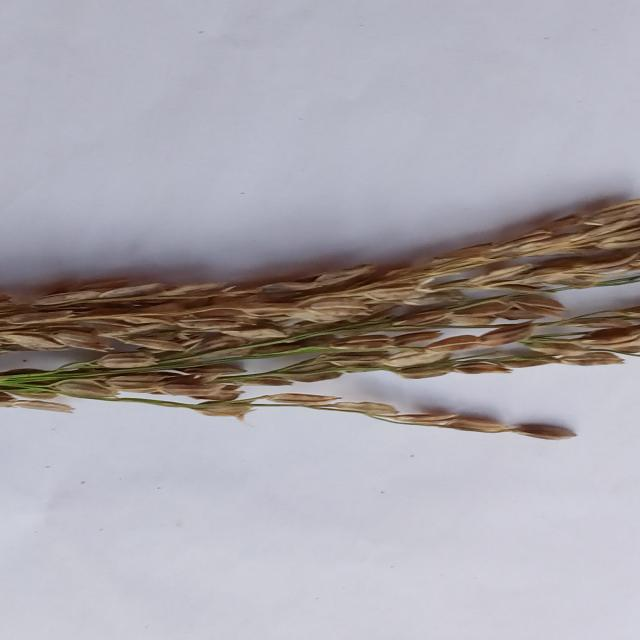Neck_Blast: (0, 195, 640, 359), (0, 290, 640, 409), (93, 390, 580, 444)
